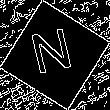N_S: (30, 26, 80, 84)
